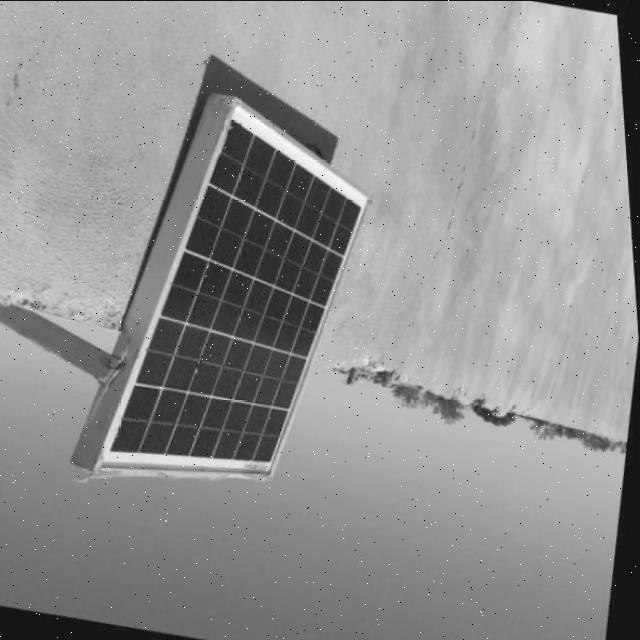Normal Solar Panel: (78, 84, 408, 514)
